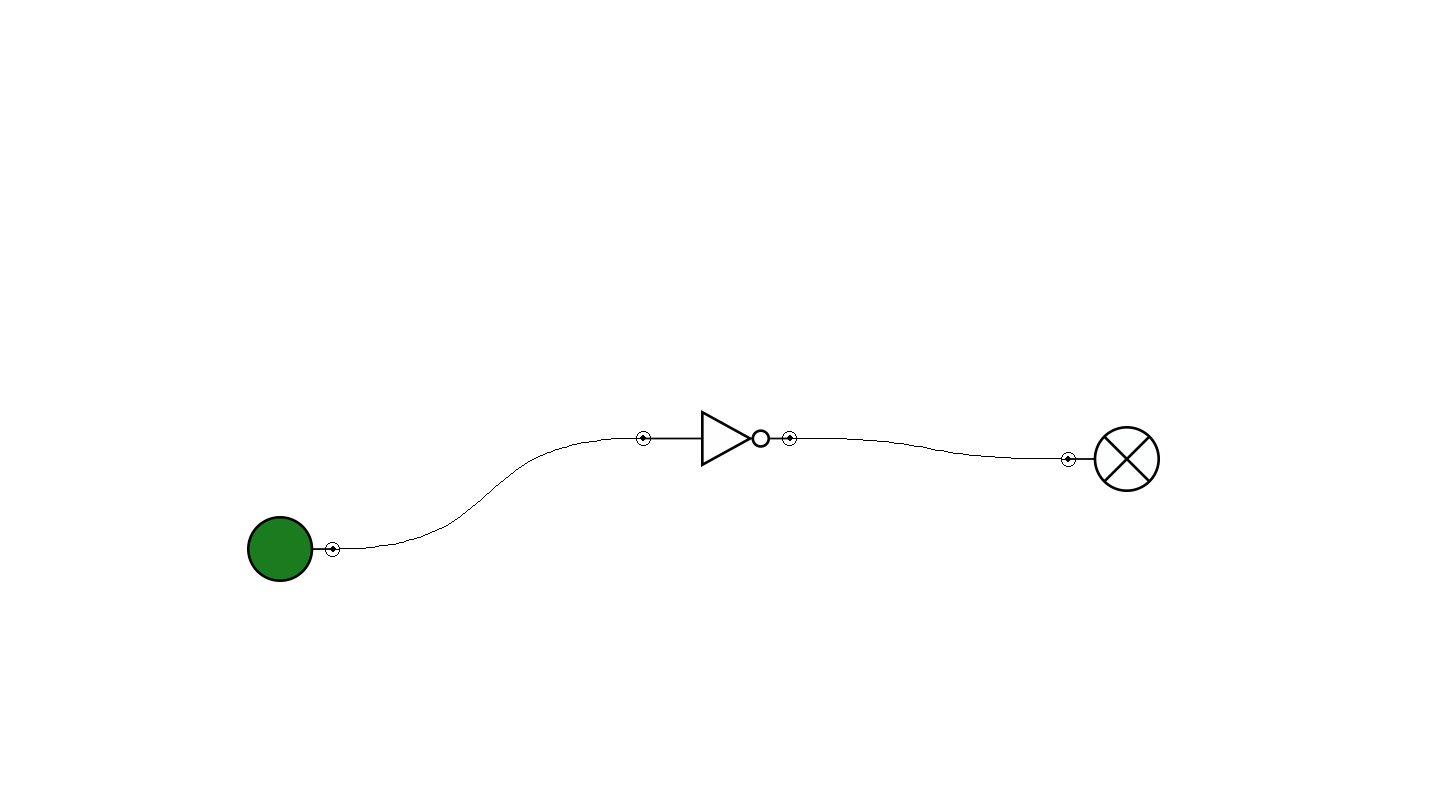bulb: (1061, 426, 1160, 492)
not: (636, 410, 797, 467)
switch_True: (247, 516, 340, 582)
